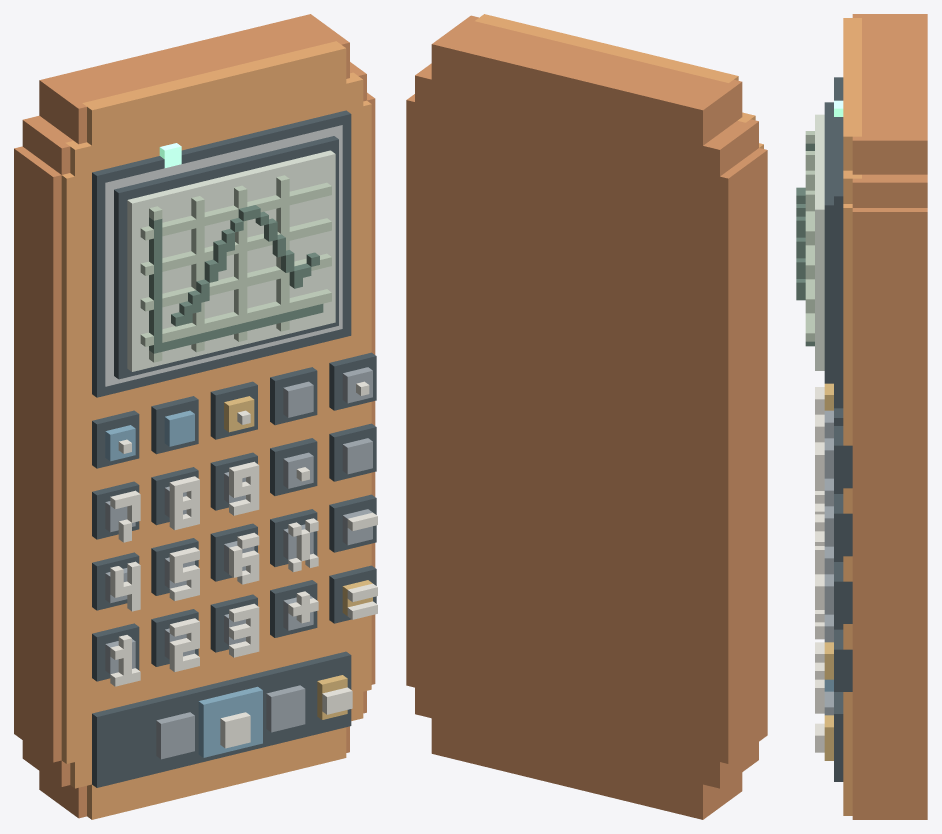
The model's file is calculatrice.glb.
The picture shows the model from 3 angles, left to right: view 1: azimuth 30°, elevation 25°; view 2: azimuth 150°, elevation 25°; view 3: azimuth 270°, elevation 25°; orthographic projection. The views are drawn at different scales.
Visible parts, largest first — view 1: Orange polymer shell, Graphite display bezel, Deep orange sidewall, Pale sage LCD, Warm ivory key legends, LCD grid, Slate function key, LCD graph pixels, Brushed silver screen rim, Blue navigation key, Amber function key; view 2: Deep orange sidewall, Orange polymer shell; view 3: Deep orange sidewall, Graphite display bezel, Orange polymer shell, Warm ivory key legends, Slate function key, Pale sage LCD, LCD grid, LCD graph pixels, Amber function key.
Boxes of the visible parts, x1,y1,x2,y2 form: Orange polymer shell: (61,41,371,819); Graphite display bezel: (92,110,376,787); Deep orange sidewall: (14,14,375,818); Pale sage LCD: (127,150,335,371); Warm ivory key legends: (110,381,377,748); LCD grid: (140,175,331,362); Slate function key: (105,367,372,759); LCD graph pixels: (149,205,323,353); Brushed silver screen rim: (105,125,342,386); Blue navigation key: (105,410,262,757); Amber function key: (224,396,372,719); Deep orange sidewall: (406,15,767,819); Orange polymer shell: (475,14,763,148); Deep orange sidewall: (852,14,927,819); Graphite display bezel: (824,77,852,781); Orange polymer shell: (843,18,861,815); Warm ivory key legends: (815,387,824,752); Slate function key: (824,410,833,715); Pale sage LCD: (815,114,824,370); LCD grid: (805,131,814,341); LCD graph pixels: (796,143,814,346); Amber function key: (824,383,833,760).
Size of the model in its own units: 1.22 by 2.56 by 0.448.
